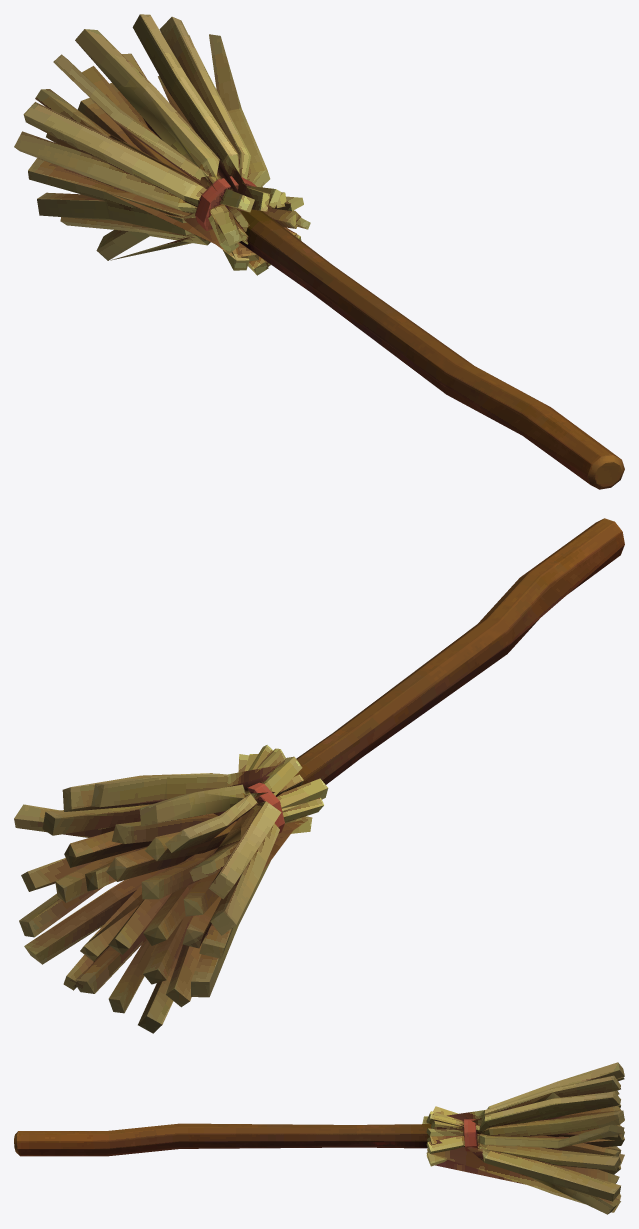
The model's file is item_broom.glb.
The picture shows the model from 3 angles, top to bottom: view 1: azimuth 30°, elevation 25°; view 2: azimuth 150°, elevation 25°; view 3: azimuth 270°, elevation 25°; orthographic projection. The views are drawn at different scales.
Parts seen in each view (by area): view 1: pCylinder4; view 2: pCylinder4; view 3: pCylinder4.
Part boxes in pixels (x1,y1,x2,y2): pCylinder4: (14,14,624,489); pCylinder4: (14,518,624,1033); pCylinder4: (14,1062,624,1214).
Size of the model in its own units: 0.2884 by 0.3093 by 1.17.
1 material, 1 textured.
